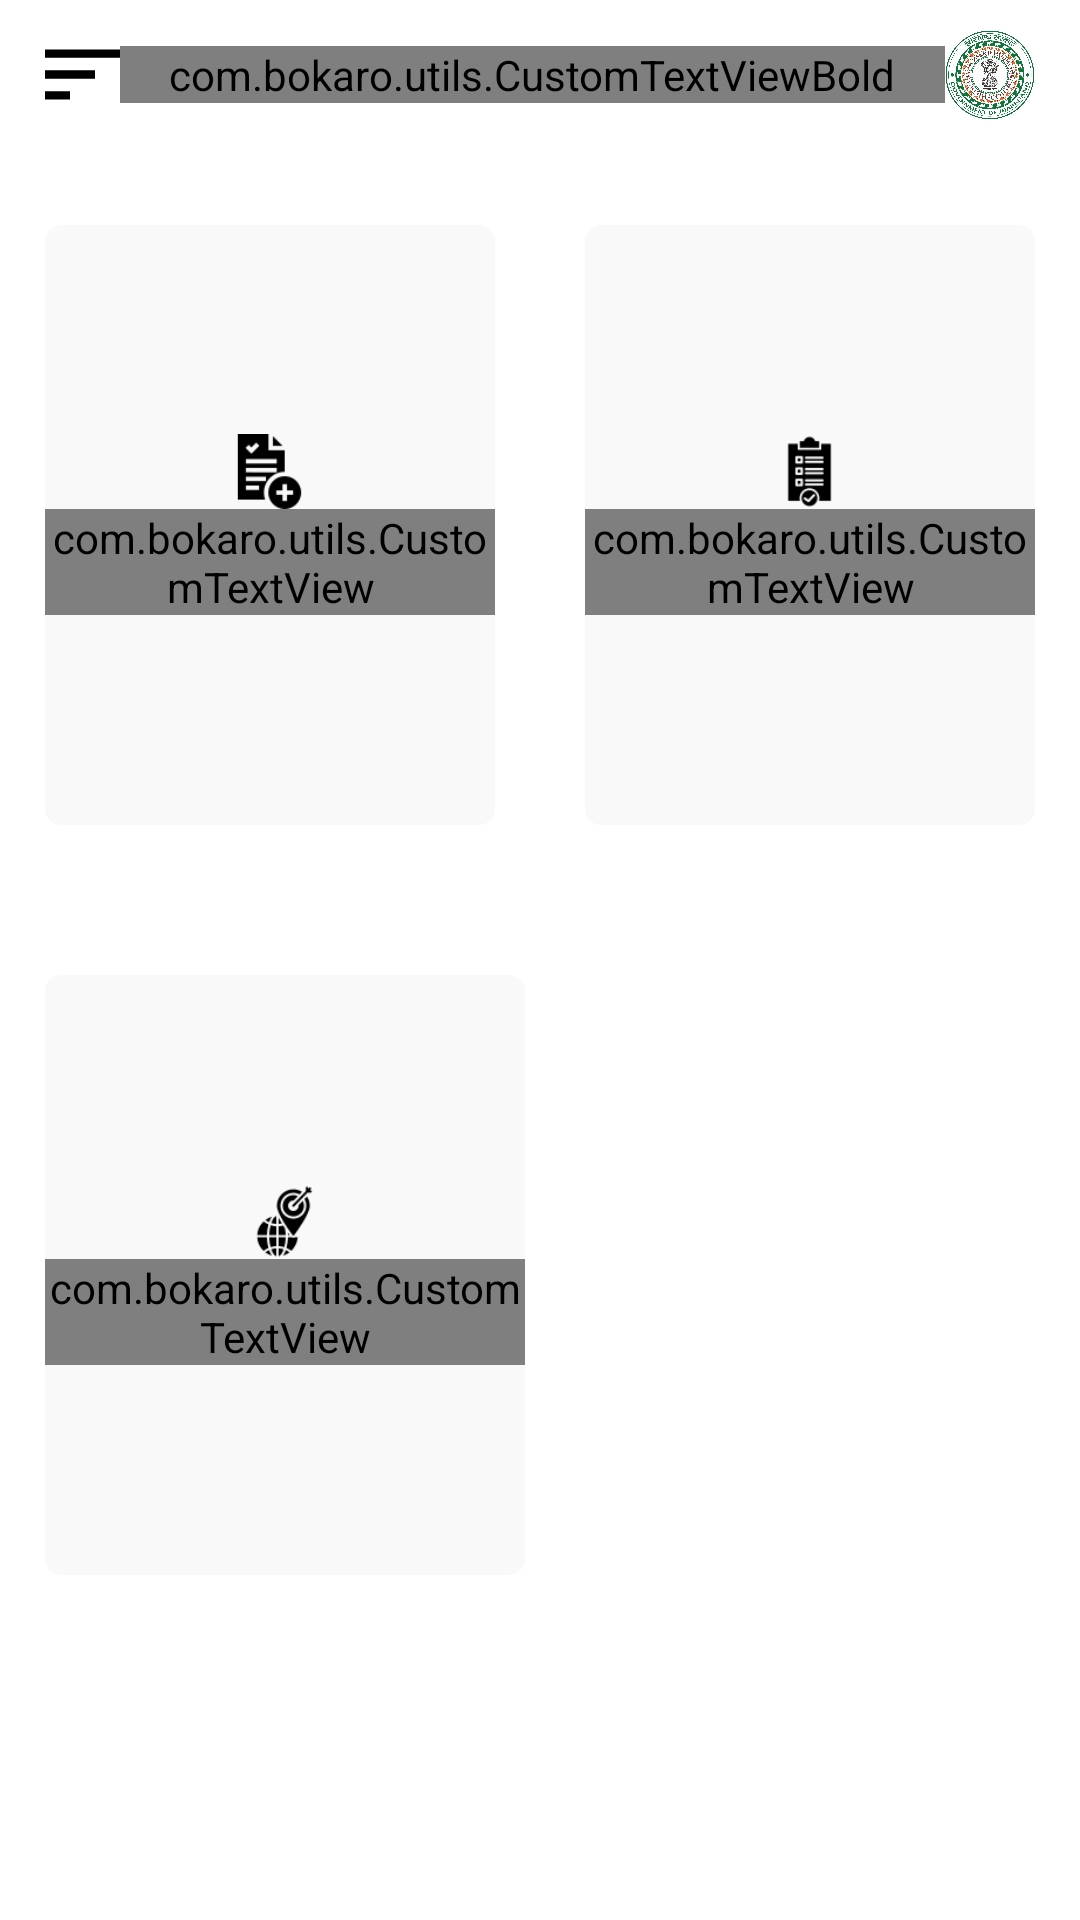

Locate icon controls on the screen. Image size 1080w x 1920h, boxes as (x1, y1, x2, y2).
geotag: (257, 1186, 312, 1257)
project: (237, 434, 285, 500)
project list: (787, 436, 832, 507)
